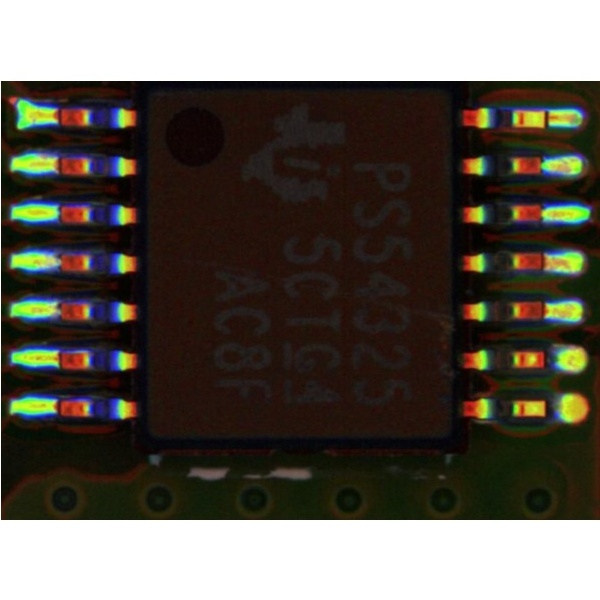Bad_podu: (38, 110, 72, 121), (41, 350, 66, 364), (539, 109, 556, 125), (533, 257, 554, 266)
